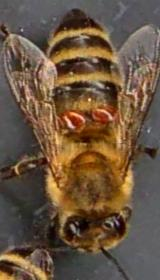varroa_mite: (54, 107, 92, 136), (84, 102, 120, 128)
